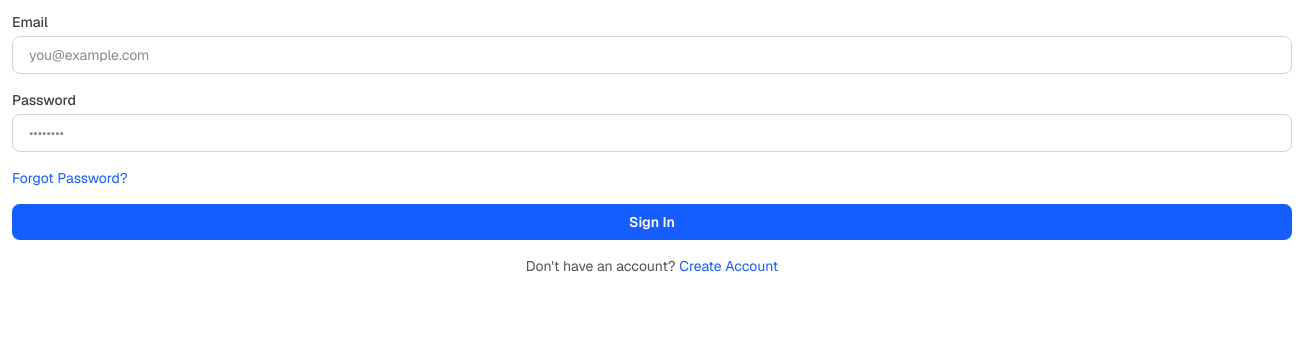
Test: EmailSignIn › validates email format
The image size is (1304, 351).
Type "invalid-email" into the field labelled "Email" at (652, 55), box [12,36,1292,74]
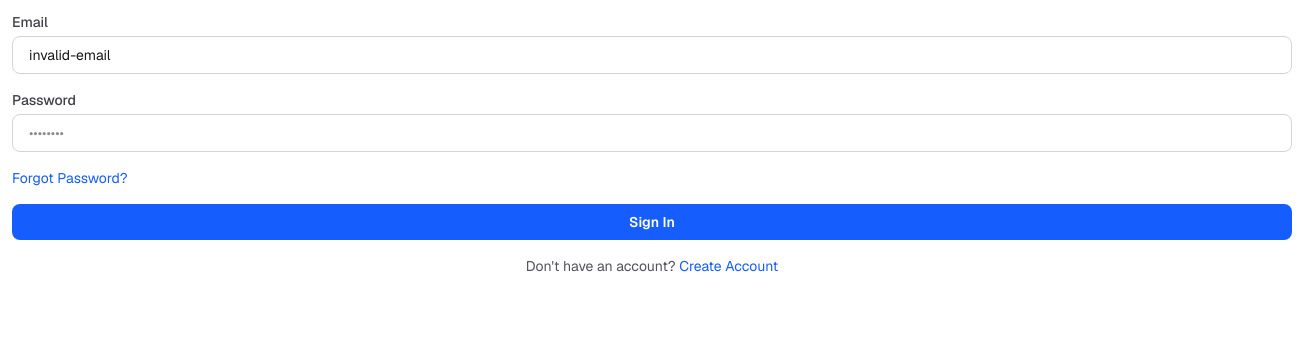
Type "password123" into the password field labelled "Password" at (652, 133), box [12,114,1292,152]
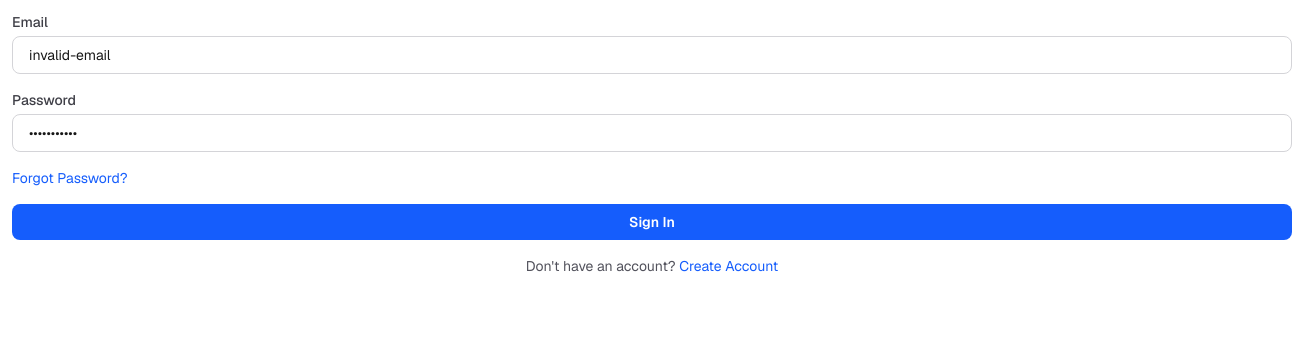
Click the button "Sign In" at (652, 222), box [12,204,1292,240]
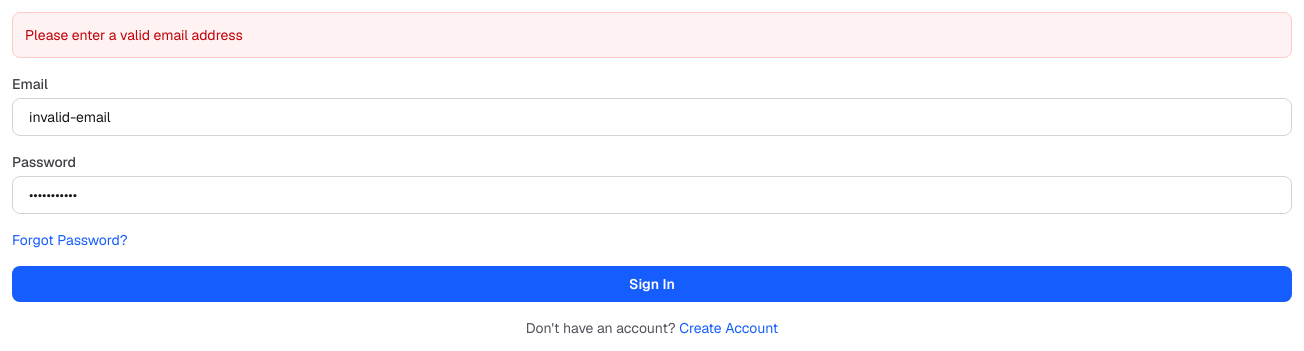
Expected: the text "Please enter a valid email address" is shown, [12,12,1292,58]
